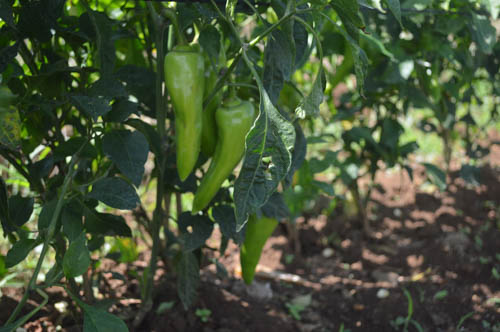ChiliPepper: (194, 104, 255, 217), (162, 52, 205, 185), (237, 216, 280, 286), (198, 79, 218, 154)
